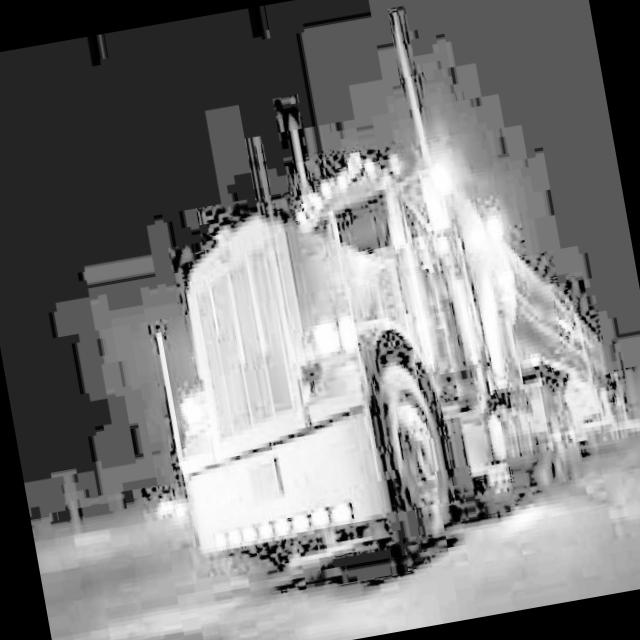Truck: (105, 0, 640, 599)
